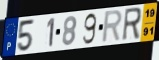1: (46, 17, 55, 49)
5: (16, 18, 38, 53)
8: (62, 15, 78, 47)
9: (82, 12, 98, 45)
R: (100, 9, 124, 45), (121, 6, 143, 43)
